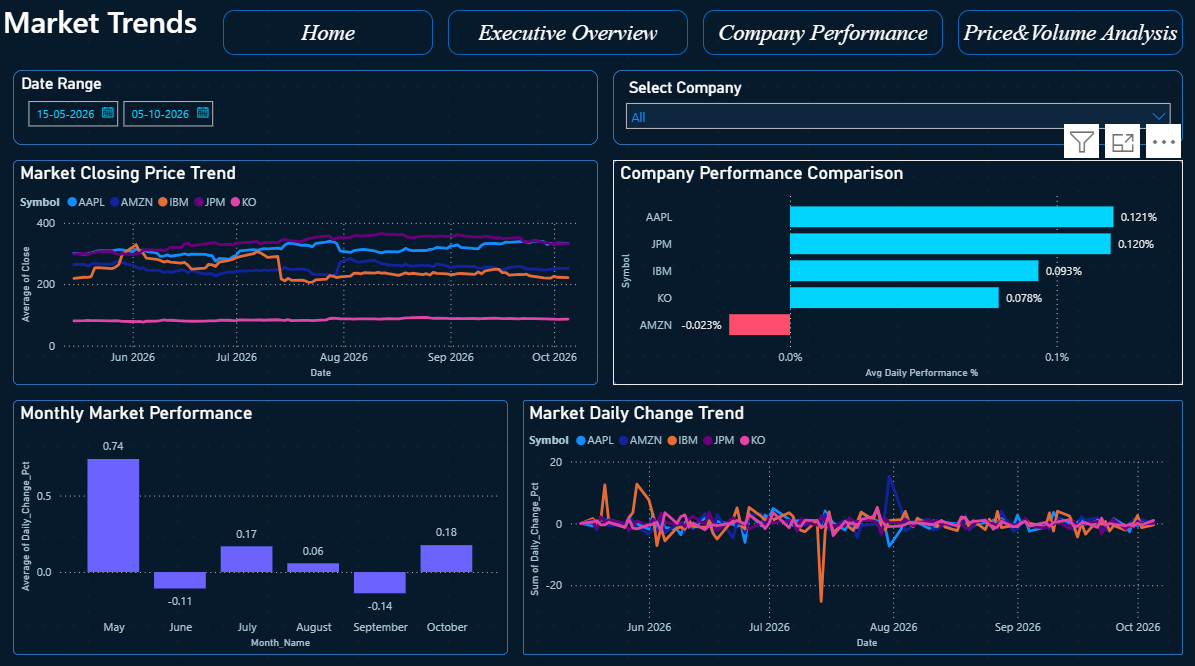

The dashboard page shown, as its layout file describes it:
{"tool":"powerbi","page":{"name":"Market Trends","canvas":[1280,720],"ordinal":5},"visuals":[{"type":"textbox","box":[0,0,368,80],"z":0},{"type":"shape","box":[240,16,224,48],"z":1000},{"type":"shape","box":[480,16,256,48],"z":2000},{"type":"shape","box":[752,16,256,48],"z":3000},{"type":"shape","box":[1024,16,240,48],"z":4000},{"type":"slicer","fields":{"Values":["stock_prices.Symbol"]},"box":[656,80,608,80],"z":5000},{"type":"slicer","title":"Date Range","fields":{"Values":["dim_date.Date"]},"box":[16,80,624,80],"z":6000},{"type":"lineChart","title":"Market Closing Price Trend","fields":{"Y":["Avg(stock_prices.Close)"],"Series":["stock_prices.Symbol"],"Category":["dim_date.Date"]},"box":[16,176,624,240],"z":7000},{"type":"clusteredColumnChart","title":"Monthly Market Performance","fields":{"Category":["dim_date.Month_Name"],"Y":["Avg(stock_prices.Daily_Change_Pct)"]},"box":[16,432,528,272],"z":8000},{"type":"lineChart","title":"Market Daily Change Trend","fields":{"Y":["Sum(stock_prices.Daily_Change_Pct)"],"Series":["stock_prices.Symbol"],"Category":["dim_date.Date"]},"box":[560,432,704,272],"z":9000},{"type":"clusteredBarChart","title":"Company Performance Comparison","fields":{"Category":["stock_prices.Symbol"],"Y":["company_kpi.Average Daily Performance Display"]},"box":[656,176,608,240],"z":10000}]}

Visuals, with their boxes in screenshot pixels (x1, y1, x2, y2), scaled from the page's 1280x720 canvas onto the 1195x666 screenshot:
textbox: <region>0, 0, 344, 74</region>
shape: <region>224, 15, 433, 59</region>
shape: <region>448, 15, 687, 59</region>
shape: <region>702, 15, 941, 59</region>
shape: <region>956, 15, 1180, 59</region>
slicer - stock_prices.Symbol: <region>612, 74, 1180, 148</region>
"Date Range" slicer: <region>15, 74, 598, 148</region>
"Market Closing Price Trend" lineChart: <region>15, 163, 598, 385</region>
"Monthly Market Performance" clusteredColumnChart: <region>15, 400, 508, 651</region>
"Market Daily Change Trend" lineChart: <region>523, 400, 1180, 651</region>
"Company Performance Comparison" clusteredBarChart: <region>612, 163, 1180, 385</region>
